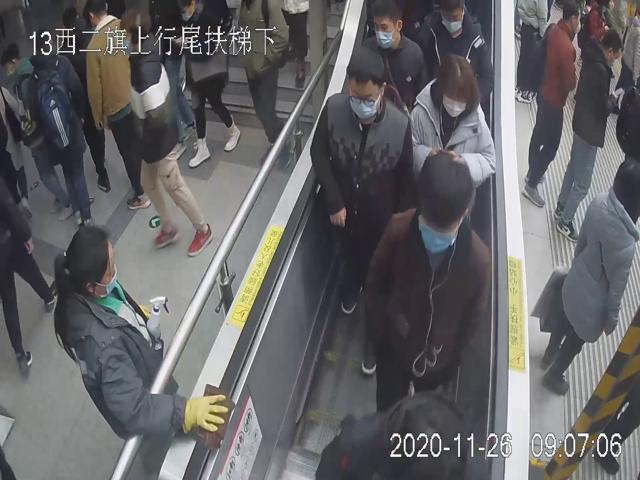person: (52, 225, 233, 452), (362, 152, 491, 419), (309, 47, 413, 316), (554, 24, 622, 242), (411, 56, 496, 218), (29, 26, 94, 232), (522, 0, 582, 209), (413, 0, 495, 110), (357, 2, 430, 108)
